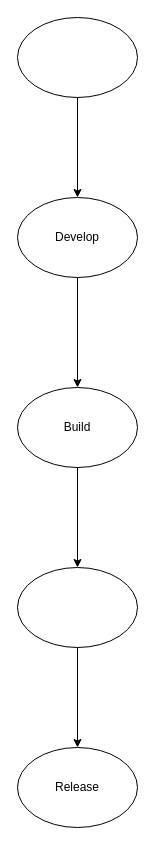
Some shapes in this 155 by 845 pixel diagram are drawn without their labels. The shapes that lost their labels are listed below. From the top down, each one's centre as x and y in pixels, then its label:
At [77,57]: "Plan".
At [77,607]: "Test".
